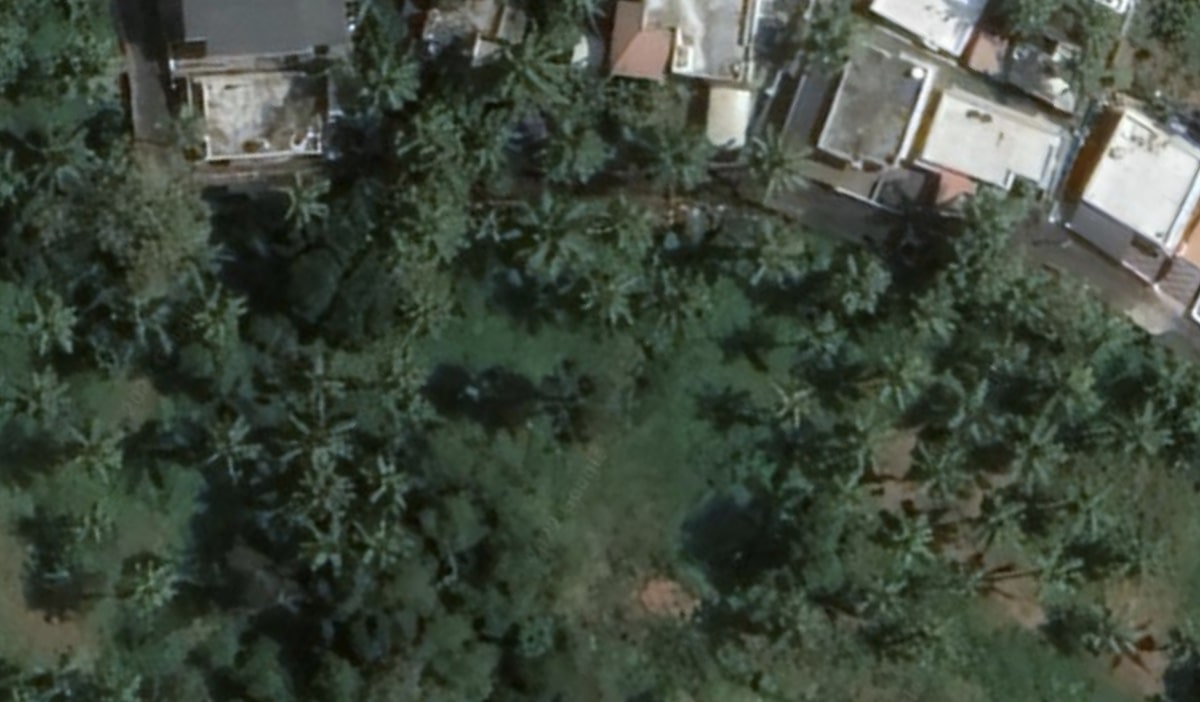coconut: (54, 492, 144, 562), (277, 396, 354, 473), (537, 114, 621, 182), (28, 119, 103, 195), (509, 201, 580, 276), (1075, 601, 1151, 667), (938, 368, 1002, 445), (63, 419, 135, 486), (749, 137, 819, 203), (101, 289, 176, 350), (644, 129, 717, 191), (198, 419, 264, 485), (877, 505, 941, 571), (1117, 398, 1178, 466), (655, 271, 720, 334), (188, 286, 256, 345), (1007, 409, 1064, 479), (364, 52, 429, 112), (376, 217, 442, 276), (790, 302, 846, 371), (400, 102, 461, 165), (1061, 475, 1117, 543), (913, 435, 975, 496), (588, 261, 643, 327), (749, 227, 807, 289), (398, 276, 455, 338), (0, 370, 64, 425), (272, 172, 344, 220), (282, 359, 357, 405), (31, 292, 81, 360), (495, 50, 558, 102), (354, 513, 412, 568), (295, 513, 348, 571), (869, 347, 921, 406), (977, 489, 1025, 549), (838, 252, 884, 309), (132, 561, 186, 609), (370, 451, 412, 509), (295, 463, 349, 508), (774, 382, 812, 429)
